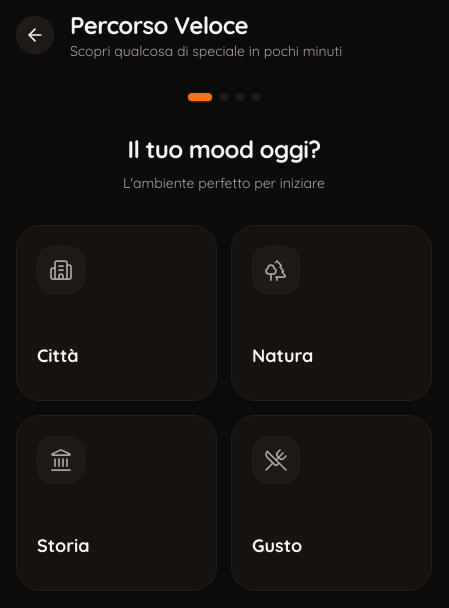
QuickPath — a quest'ora quasi tutto chiuso › un risultato vuoto qualunque (non per gli orari, non uno zero vero) e' il messaggio tecnico, non quello degli orari
Click the button "Città".
click(116, 313)  # box 16,225 -> 217,401
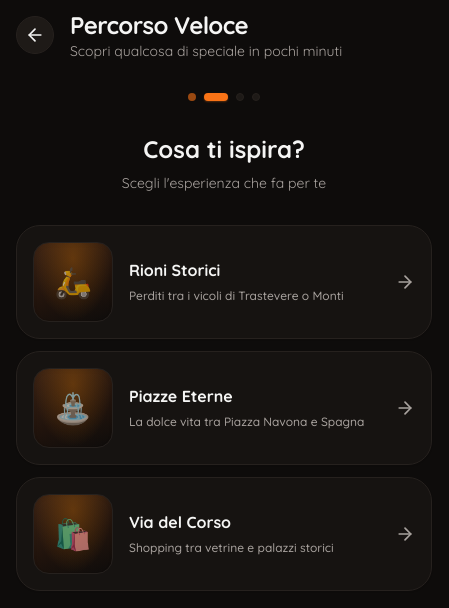
Click the button "Rioni Storici".
click(73, 282)  # box 16,225 -> 432,339
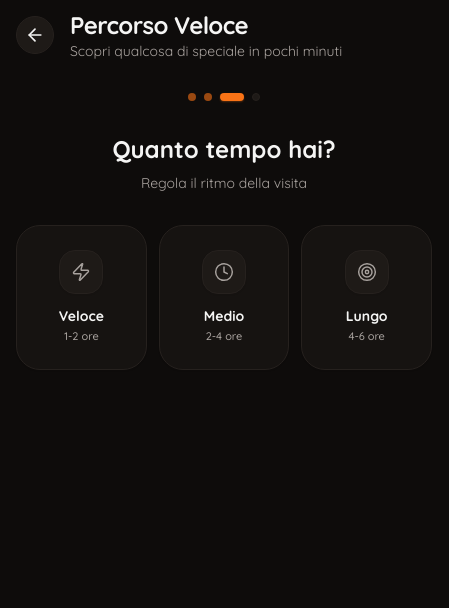
Click the button "Veloce 1-2 ore".
click(81, 297)  # box 16,225 -> 147,370
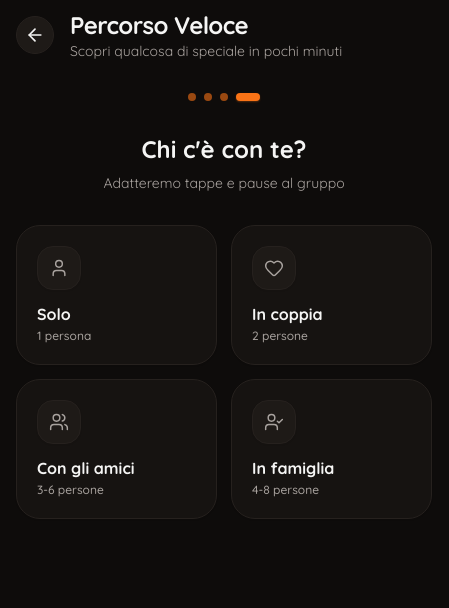
Click the button "Solo 1 persona".
click(116, 295)  # box 16,225 -> 217,365
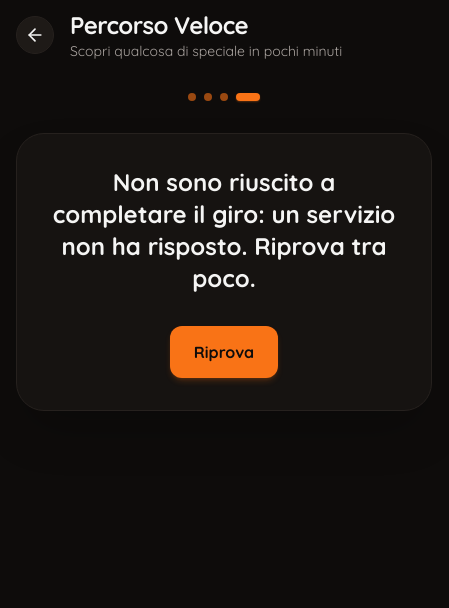
Expected: the heading "Non sono riuscito a completare il giro: un servizio non ha risposto. Riprova tra poco." is shown, 53,167 -> 395,293
Expected: the button "Riprova" is shown, 170,326 -> 278,378
